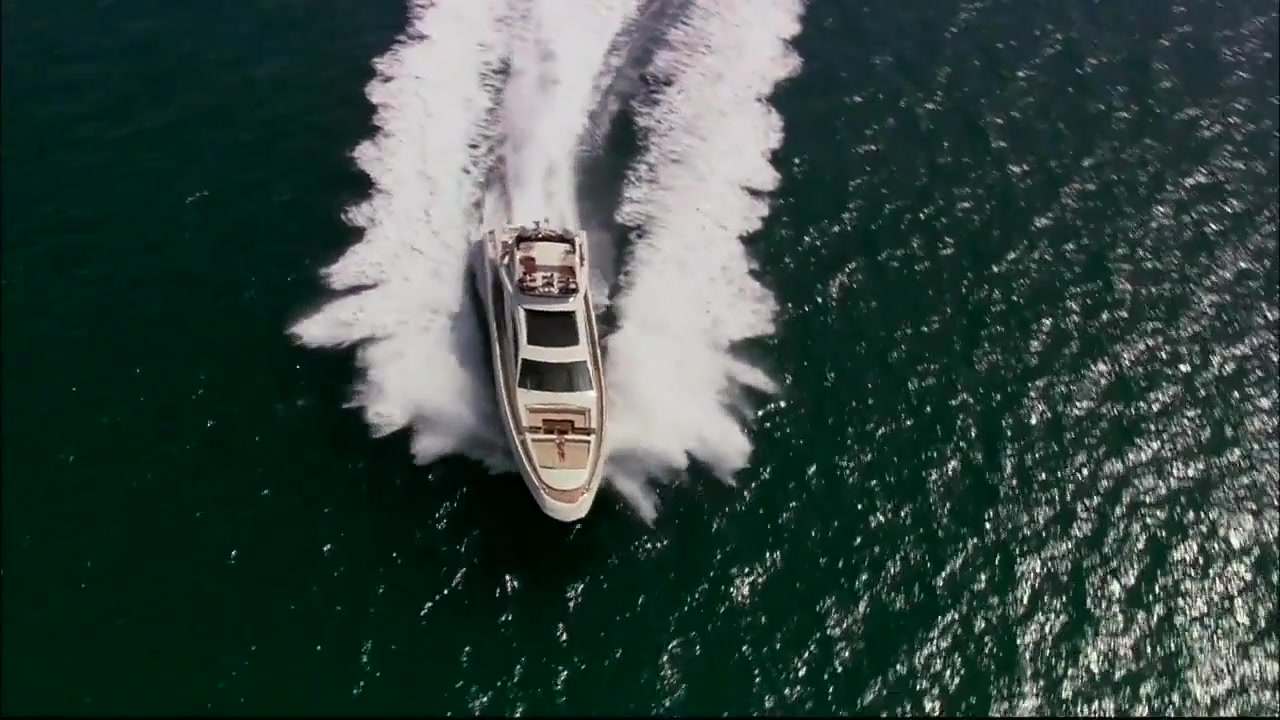boat: (460, 219, 620, 535)
